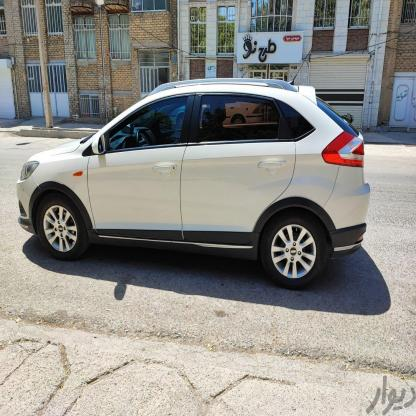Car: (13, 80, 378, 295)
